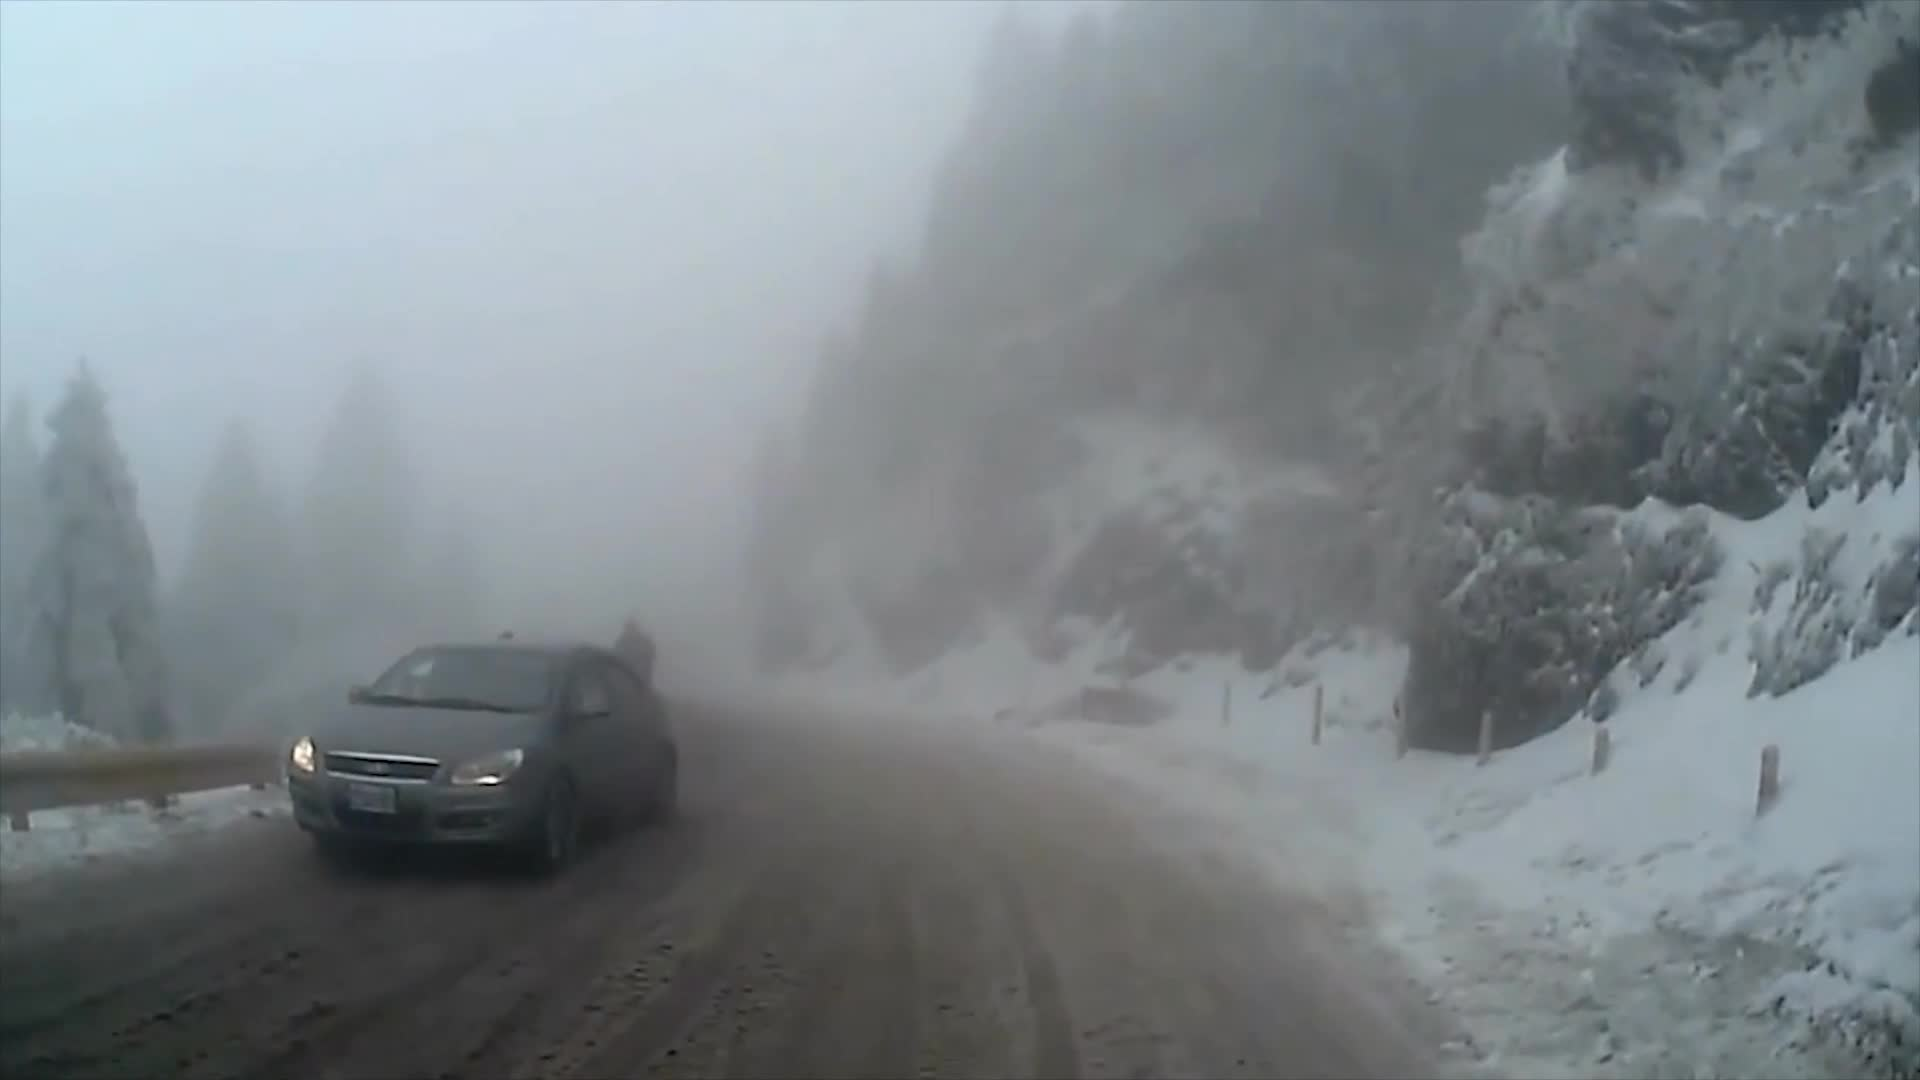vehicle: (284, 638, 680, 876)
